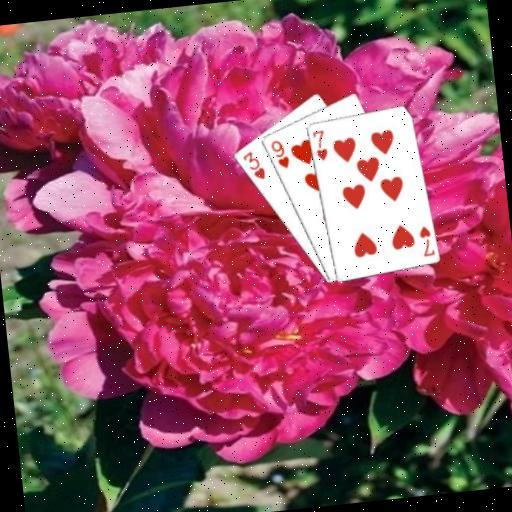3H: (239, 147, 268, 183)
7H: (309, 127, 330, 164), (416, 222, 437, 258)
9H: (268, 137, 292, 171)
